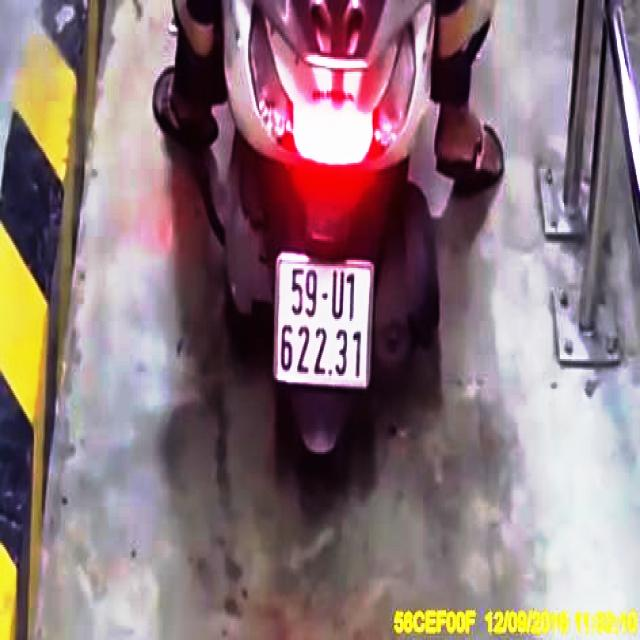license_plate: (277, 256, 370, 386)
